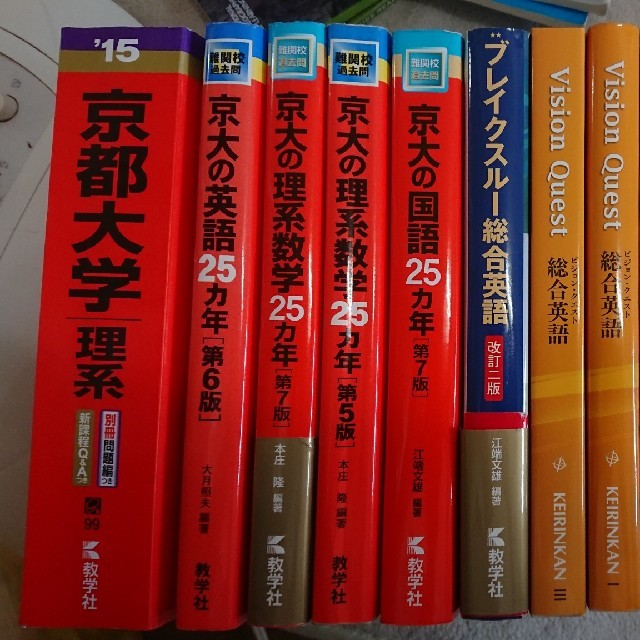book: (380, 26, 467, 625), (454, 25, 538, 621), (525, 21, 594, 624), (585, 21, 640, 613)
